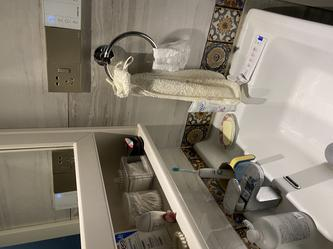switch: (56, 174, 75, 190), (56, 66, 76, 75)
